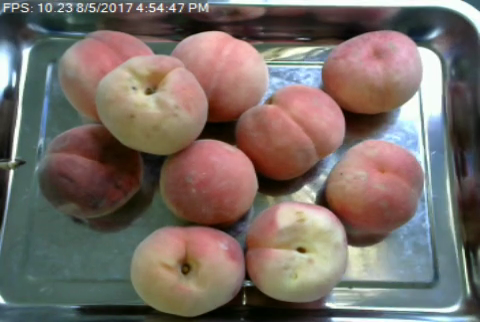Peach: (244, 199, 348, 303), (130, 224, 244, 318), (98, 54, 204, 155), (235, 86, 344, 180), (54, 27, 154, 129), (324, 139, 424, 238), (40, 121, 141, 219), (174, 30, 270, 121), (159, 138, 258, 226), (322, 28, 421, 115)
